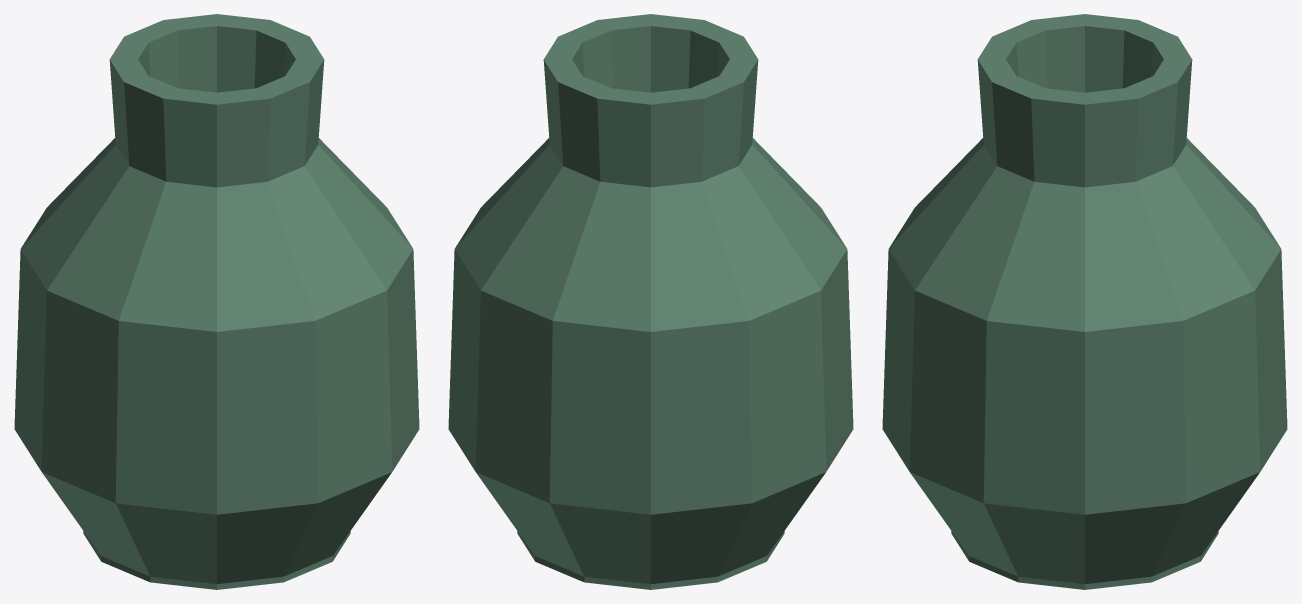
Rendered from jade-jar.glb.
3 views of the same model, side by side, from view 1: azimuth 30°, elevation 25°; view 2: azimuth 150°, elevation 25°; view 3: azimuth 270°, elevation 25° (orthographic).
Visible parts, largest first — view 1: jade-jar__body; view 2: jade-jar__body; view 3: jade-jar__body.
Boxes of the visible parts, left/top/right/bottom form: jade-jar__body: left=14, top=14, right=419, bottom=589; jade-jar__body: left=448, top=14, right=853, bottom=589; jade-jar__body: left=882, top=14, right=1287, bottom=589.
Size of the model in its own units: 0.24 by 0.31 by 0.24.
